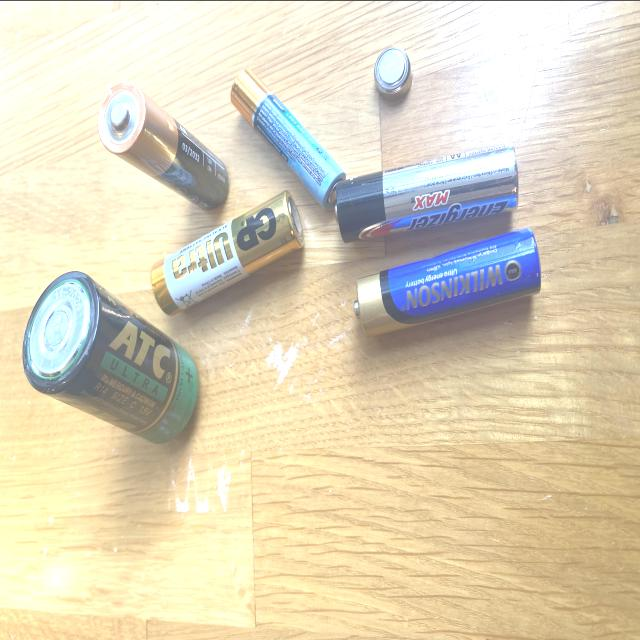AA: (350, 224, 543, 339), (148, 184, 310, 317), (331, 138, 521, 243), (97, 78, 231, 214)
AAA: (227, 63, 350, 209)
COIN: (373, 44, 414, 102)
